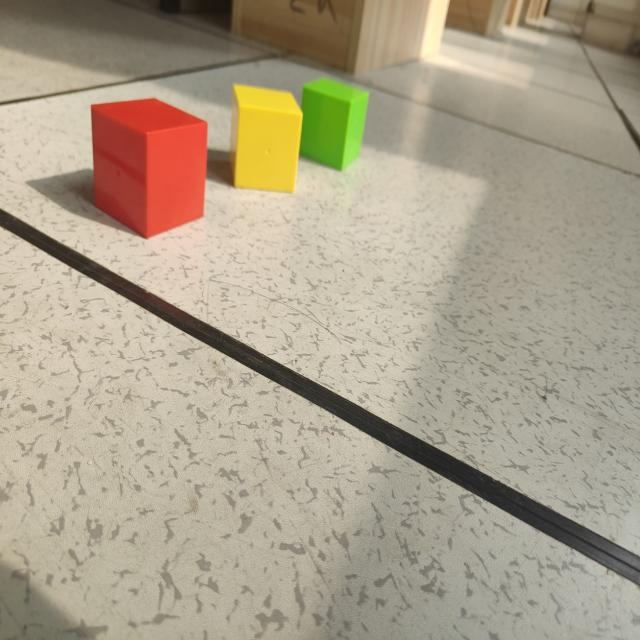green: (299, 77, 369, 173)
red: (91, 100, 209, 240)
yellow: (231, 85, 302, 195)
